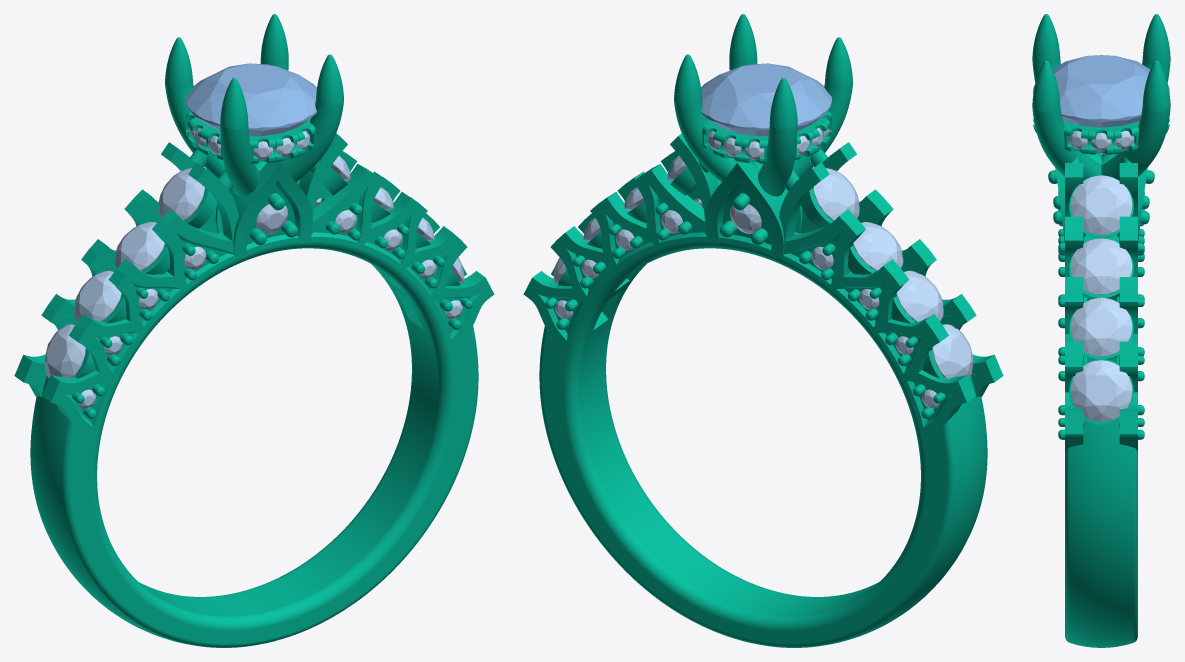
3 renders of one model, left to right at view 1: azimuth 30°, elevation 25°; view 2: azimuth 150°, elevation 25°; view 3: azimuth 270°, elevation 25°, orthographic.
Parts seen in each view (by area): view 1: 111.3dm, Diamond_Round (×6); view 2: 111.3dm, Diamond_Round (×6); view 3: 111.3dm, Diamond_Round (×8), Bezel (×4).
Part boxes in pixels (bbox=[...]): 111.3dm: bbox=[14, 14, 494, 647]; Diamond_Round (×6): bbox=[44, 63, 316, 378]; 111.3dm: bbox=[523, 14, 1003, 647]; Diamond_Round (×6): bbox=[701, 63, 973, 378]; 111.3dm: bbox=[1032, 14, 1170, 647]; Diamond_Round (×8): bbox=[1033, 55, 1169, 421]; Bezel (×4): bbox=[1069, 175, 1133, 423].
Size of the model in its own units: 2.44 by 3.1 by 0.6612.
